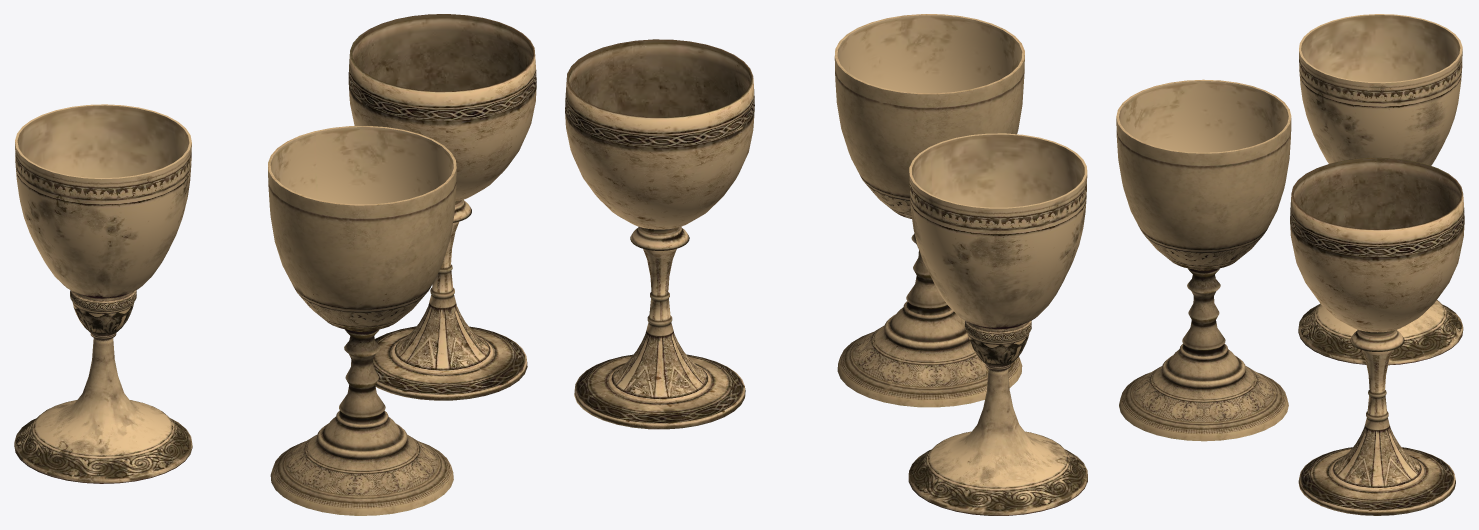
File: brass_goblets.glb
3 views of the same model, side by side, from view 1: azimuth 30°, elevation 25°; view 2: azimuth 150°, elevation 25°; view 3: azimuth 270°, elevation 25° (orthographic). The views are drawn at different scales.
Visible parts, largest first — view 1: brass_goblet_01, brass_goblet_02, brass_goblet_03; view 2: brass_goblet_02, brass_goblet_03, brass_goblet_01; view 3: brass_goblet_01, brass_goblet_03, brass_goblet_02.
Part boxes in pixels (x1,y1,x2,y2): brass_goblet_01: (268, 126, 456, 515); brass_goblet_02: (14, 104, 192, 483); brass_goblet_03: (348, 14, 536, 400); brass_goblet_02: (908, 133, 1087, 515); brass_goblet_03: (565, 39, 754, 429); brass_goblet_01: (834, 14, 1024, 407); brass_goblet_01: (1116, 79, 1291, 441); brass_goblet_03: (1290, 157, 1464, 515); brass_goblet_02: (1298, 14, 1463, 365).
Bounding box in the file's own units: 0.4534 × 0.2734 × 0.2976.
3 materials, 3 textured.
